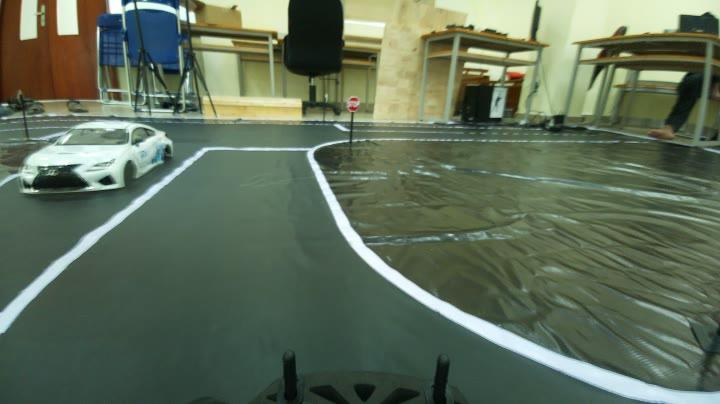car: (19, 111, 172, 194)
stop: (336, 90, 362, 114)
